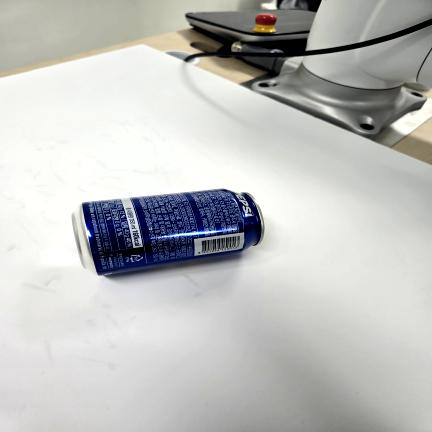can_pepsi: (72, 189, 264, 275)
